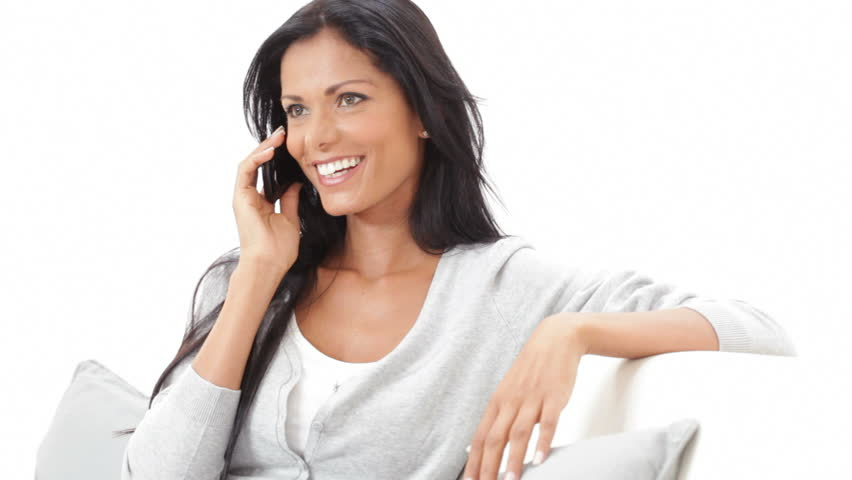phone: (232, 126, 309, 225)
talk: (233, 77, 389, 269)
